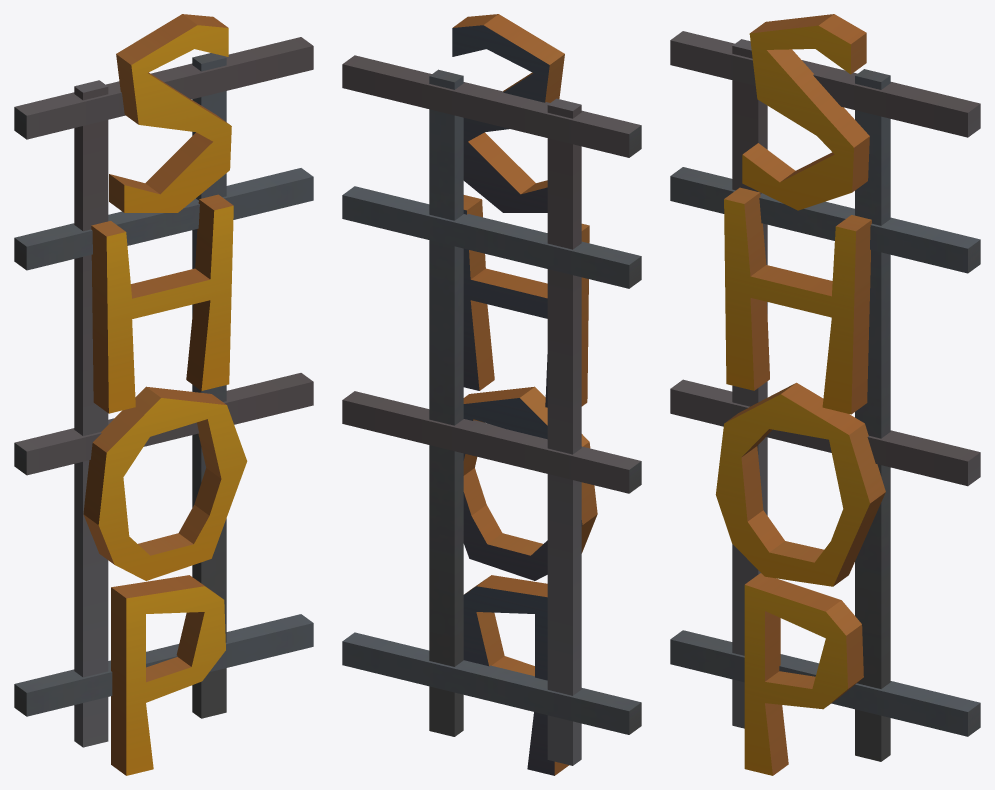
The model's file is SM_Hoarding_03_B.FBX.
3 renders of one model, left to right at view 1: azimuth 30°, elevation 25°; view 2: azimuth 150°, elevation 25°; view 3: azimuth 330°, elevation 25°, orthographic. The views are drawn at different scales.
Visible parts, largest first — view 1: SM_Hoarding_03_B; view 2: SM_Hoarding_03_B; view 3: SM_Hoarding_03_B.
Boxes of the visible parts, bbox=[...] form: SM_Hoarding_03_B: bbox=[14, 14, 313, 775]; SM_Hoarding_03_B: bbox=[342, 14, 641, 775]; SM_Hoarding_03_B: bbox=[670, 14, 980, 775].
Size of what is drawn, in the model's own units: 308 by 48.89 by 752.
